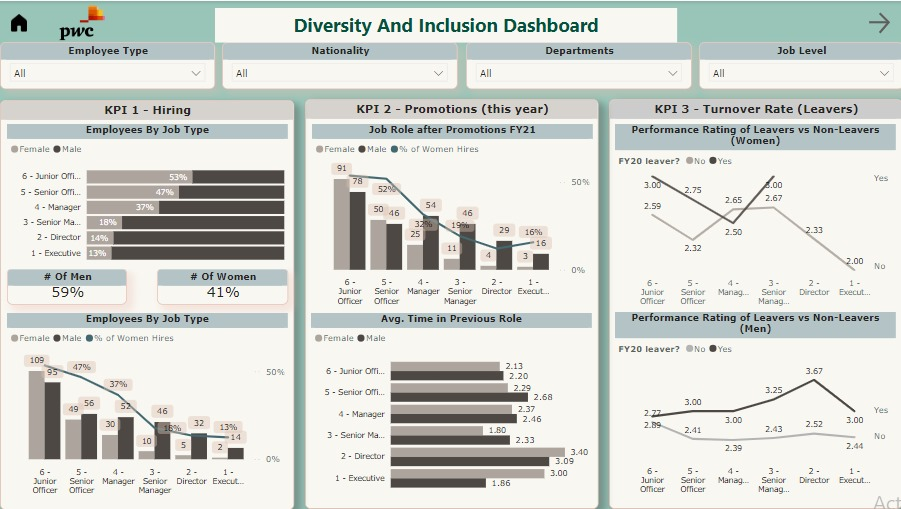

This screenshot's page, from the dashboard's own definition file:
{"tool":"powerbi","page":{"name":"Dashboard 1","canvas":[1280,720],"ordinal":0},"visuals":[{"type":"textbox","title":"KPI 3 - Turnover Rate (Leavers)","box":[863.5,139.3,416.5,580.8],"z":0},{"type":"textbox","title":"KPI 2 - Promotions (this year)","box":[431.8,139.3,416.5,580.8],"z":1000},{"type":"textbox","title":"KPI 1 - Hiring","box":[0,139.6,416.6,580.7],"z":2000},{"type":"card","title":"# Of Men","fields":{"Values":["Backing 1.NofMen"]},"box":[9.6,377.9,170.3,51.6],"z":3000},{"type":"card","title":"# Of Women","fields":{"Values":["Backing 1.NofWomen"]},"box":[221.9,377.9,185.9,51.6],"z":4000},{"type":"hundredPercentStackedBarChart","title":"Employees By Job Type","fields":{"Category":["Pharma Group AG.Job Level after FY20 promotions"],"Series":["Pharma Group AG.Gender"],"Y":["Pharma Group AG.Employee ID"]},"box":[9.6,173.9,398.3,206.3],"z":5000},{"type":"slicer","title":"Employee Type","fields":{"Values":["Pharma Group AG.Time type","Pharma Group AG.FTE group"]},"box":[0,58.2,304.9,67.5],"z":6000},{"type":"slicer","title":"Nationality","fields":{"Values":["Pharma Group AG.Nationality 1"]},"box":[315.3,58.2,334,67.5],"z":7000},{"type":"slicer","title":"Departments","fields":{"Values":["Pharma Group AG.Department @01.07.2020"]},"box":[660.9,58.2,320,67.5],"z":8000},{"type":"image","box":[43.2,1.2,148.8,58.8],"z":9000},{"type":"textbox","box":[304.9,9.6,655.1,49.4],"z":10000},{"type":"slicer","title":"Job Level","fields":{"Values":["Pharma Group AG.Job Level after FY20 promotions"]},"box":[990.3,58.2,289.7,67.5],"z":11000},{"type":"lineClusteredColumnComboChart","title":"Employees By Job Type","fields":{"Category":["Pharma Group AG.Job Level after FY20 promotions"],"Series":["Pharma Group AG.Gender"],"Y":["Pharma Group AG.Employee ID"],"Y2":["Backing 1.NofWomen"]},"box":[10.5,442.2,398,265.3],"z":12000},{"type":"lineClusteredColumnComboChart","title":"Job Role after Promotions FY21","fields":{"Series":["Pharma Group AG.Gender"],"Y":["Pharma Group AG.Employee ID"],"Y2":["Backing 1.NofWomen"],"Category":["Pharma Group AG.Job Level after FY21 promotions"]},"box":[441.5,174.1,398.3,264.6],"z":13000},{"type":"clusteredBarChart","title":"Avg. Time in Previous Role ","fields":{"Series":["Pharma Group AG.Gender"],"Y":["Pharma Group AG.Time in Job Level @01.07.2020"],"Category":["Pharma Group AG.Job Level after FY20 promotions"]},"box":[441.5,442.7,398.3,265.1],"z":14000},{"type":"lineChart","title":"Performance Rating of Leavers vs Non-Leavers (Women) ","fields":{"Category":["Pharma Group AG.Job Level after FY20 promotions"],"Y":["Pharma Group AG.FY19 Performance Rating"],"Series":["Pharma Group AG.FY20 leaver?"]},"box":[872.1,173.9,398.3,265.1],"z":15000},{"type":"lineChart","title":"Performance Rating of Leavers vs Non-Leavers (Men) ","fields":{"Category":["Pharma Group AG.Job Level after FY20 promotions"],"Y":["Pharma Group AG.FY19 Performance Rating"],"Series":["Pharma Group AG.FY20 leaver?"]},"box":[872.1,441.5,398.3,265.1],"z":16000},{"type":"actionButton","box":[1226,10.8,54,39.6],"z":17000},{"type":"image","box":[0,10.8,54,39.6],"z":18000}]}

Visuals, with their boxes in screenshot pixels (x1, y1, x2, y2), scaled from the page's 1280x720 canvas onto the 901x509 screenshot:
"KPI 3 - Turnover Rate (Leavers)" textbox: [x1=608, y1=98, x2=900, y2=508]
"KPI 2 - Promotions (this year)" textbox: [x1=304, y1=98, x2=597, y2=508]
"KPI 1 - Hiring" textbox: [x1=0, y1=99, x2=293, y2=508]
"# Of Men" card: [x1=7, y1=267, x2=127, y2=304]
"# Of Women" card: [x1=156, y1=267, x2=287, y2=304]
"Employees By Job Type" hundredPercentStackedBarChart: [x1=7, y1=123, x2=287, y2=269]
"Employee Type" slicer: [x1=0, y1=41, x2=215, y2=89]
"Nationality" slicer: [x1=222, y1=41, x2=457, y2=89]
"Departments" slicer: [x1=465, y1=41, x2=690, y2=89]
image: [x1=30, y1=1, x2=135, y2=42]
textbox: [x1=215, y1=7, x2=676, y2=42]
"Job Level" slicer: [x1=697, y1=41, x2=900, y2=89]
"Employees By Job Type" lineClusteredColumnComboChart: [x1=7, y1=313, x2=288, y2=500]
"Job Role after Promotions FY21" lineClusteredColumnComboChart: [x1=311, y1=123, x2=591, y2=310]
"Avg. Time in Previous Role " clusteredBarChart: [x1=311, y1=313, x2=591, y2=500]
"Performance Rating of Leavers vs Non-Leavers (Women) " lineChart: [x1=614, y1=123, x2=894, y2=310]
"Performance Rating of Leavers vs Non-Leavers (Men) " lineChart: [x1=614, y1=312, x2=894, y2=500]
actionButton: [x1=863, y1=8, x2=900, y2=36]
image: [x1=0, y1=8, x2=38, y2=36]
